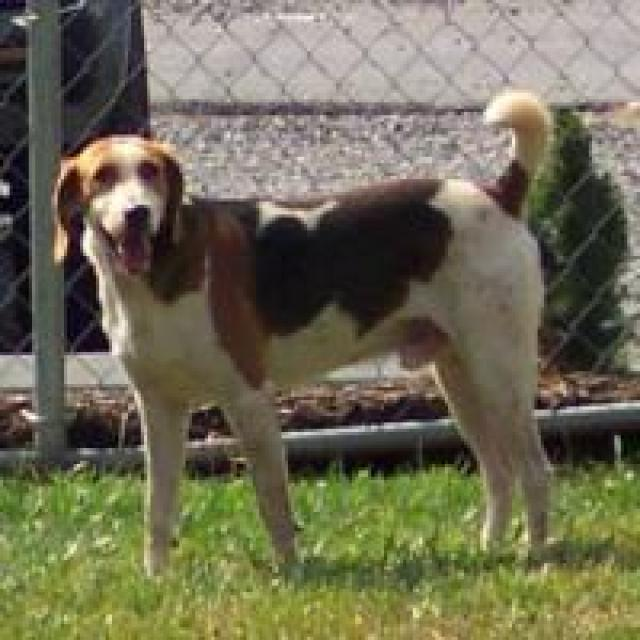happy: (42, 50, 602, 559)
